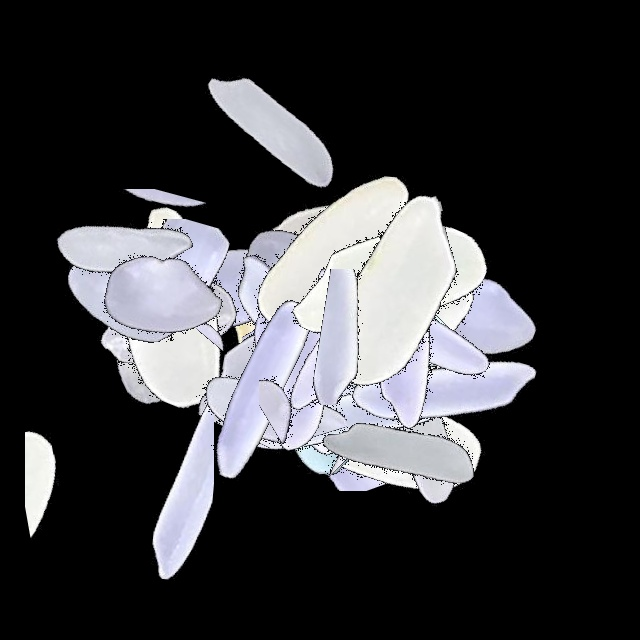Broken: (264, 286, 514, 460), (182, 240, 347, 490), (49, 219, 299, 374), (255, 292, 505, 447), (263, 295, 513, 441), (75, 355, 214, 605), (263, 269, 513, 405), (258, 250, 393, 500), (223, 321, 473, 453), (242, 247, 366, 497), (271, 262, 392, 512), (157, 337, 407, 448), (22, 189, 272, 293), (232, 390, 482, 491), (241, 162, 342, 412), (100, 130, 196, 380), (25, 377, 120, 627), (259, 268, 353, 518), (181, 169, 272, 419)
Full: (268, 272, 518, 522), (172, 205, 422, 455), (264, 241, 514, 491), (162, 157, 412, 407), (23, 206, 273, 456), (103, 162, 353, 412), (353, 191, 603, 441), (39, 195, 289, 445), (256, 306, 506, 556), (175, 148, 425, 398), (147, 0, 397, 250), (194, 239, 444, 489), (256, 219, 506, 469), (169, 214, 419, 464), (295, 306, 545, 556), (52, 185, 302, 435), (154, 227, 404, 477), (207, 254, 457, 504), (173, 250, 423, 500), (223, 295, 473, 545), (206, 130, 456, 380), (220, 210, 470, 460), (133, 265, 383, 515), (319, 264, 569, 514), (274, 330, 524, 580), (275, 198, 525, 448), (0, 175, 250, 425), (267, 157, 517, 407), (0, 118, 250, 368), (265, 167, 515, 417), (37, 170, 287, 420)
